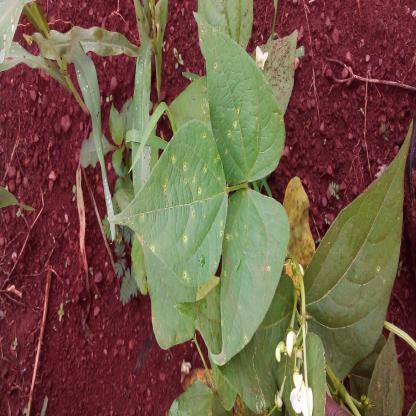Beans_Rust: (192, 13, 294, 177), (124, 140, 224, 300), (220, 177, 282, 358)
